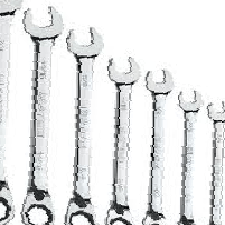wrench: (105, 51, 225, 223)
